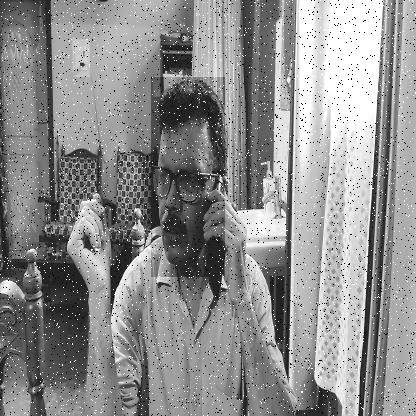Distracted: (151, 77, 225, 278)
